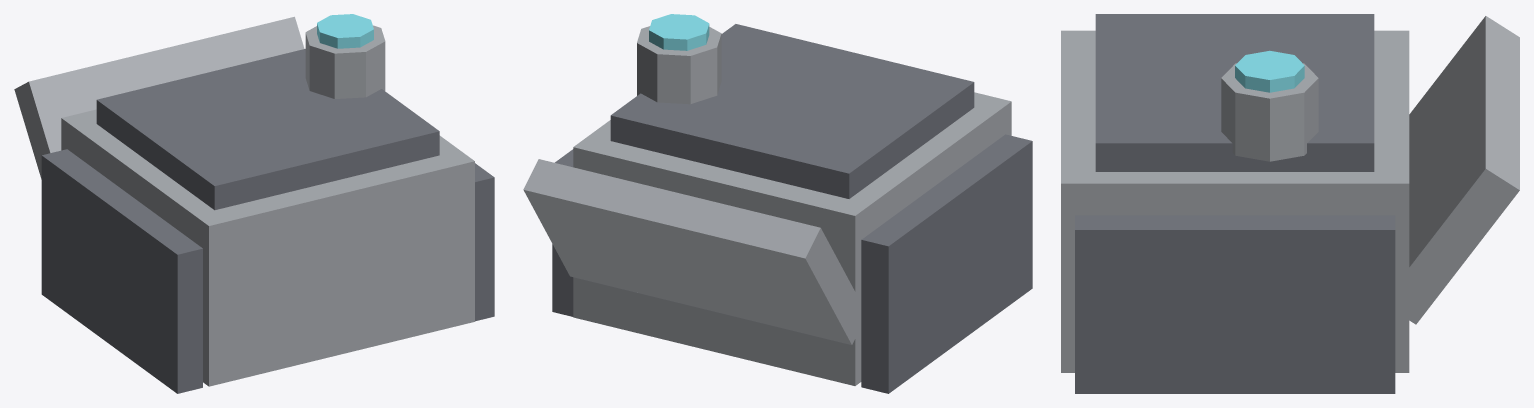
Rendered from pdc_cowl_pitch.glb.
3 renders of one model, left to right at view 1: azimuth 30°, elevation 25°; view 2: azimuth 150°, elevation 25°; view 3: azimuth 270°, elevation 25°, orthographic. The views are drawn at different scales.
Size of the model in its own units: 0.62 by 0.46 by 0.6591.
